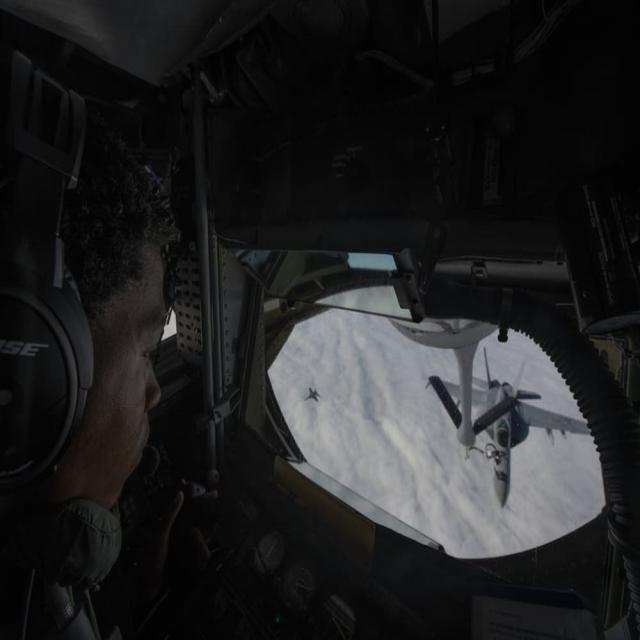MIL_Plane: (425, 346, 592, 510), (304, 386, 321, 403)
